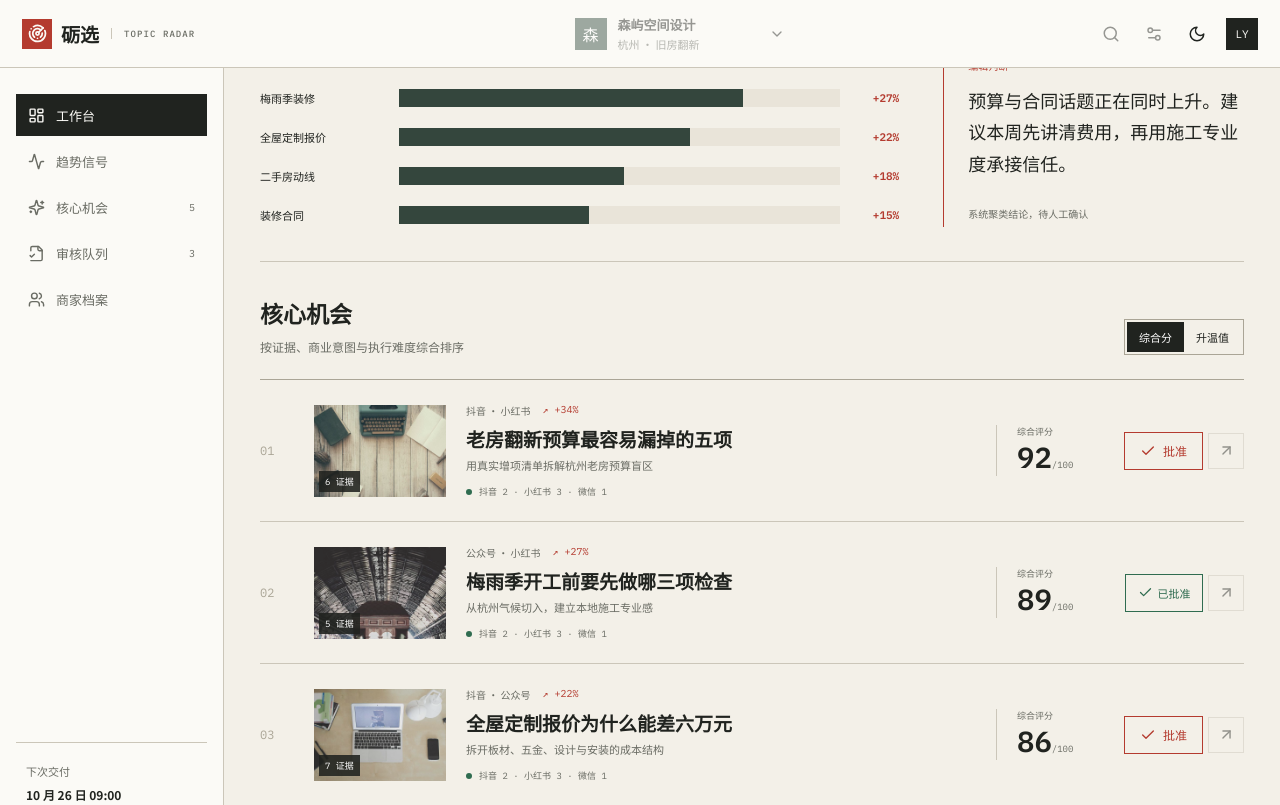
Test: RadarDashboard › disables unavailable commands and locks delivery until review is complete
(page scrolled)
Expected: the button named "搜索" is disabled, [1093,16,1129,52]
Click the button with aria-label "批准 老房翻新预算最容易漏掉的五项": (1164, 451) [1124,432,1203,470]
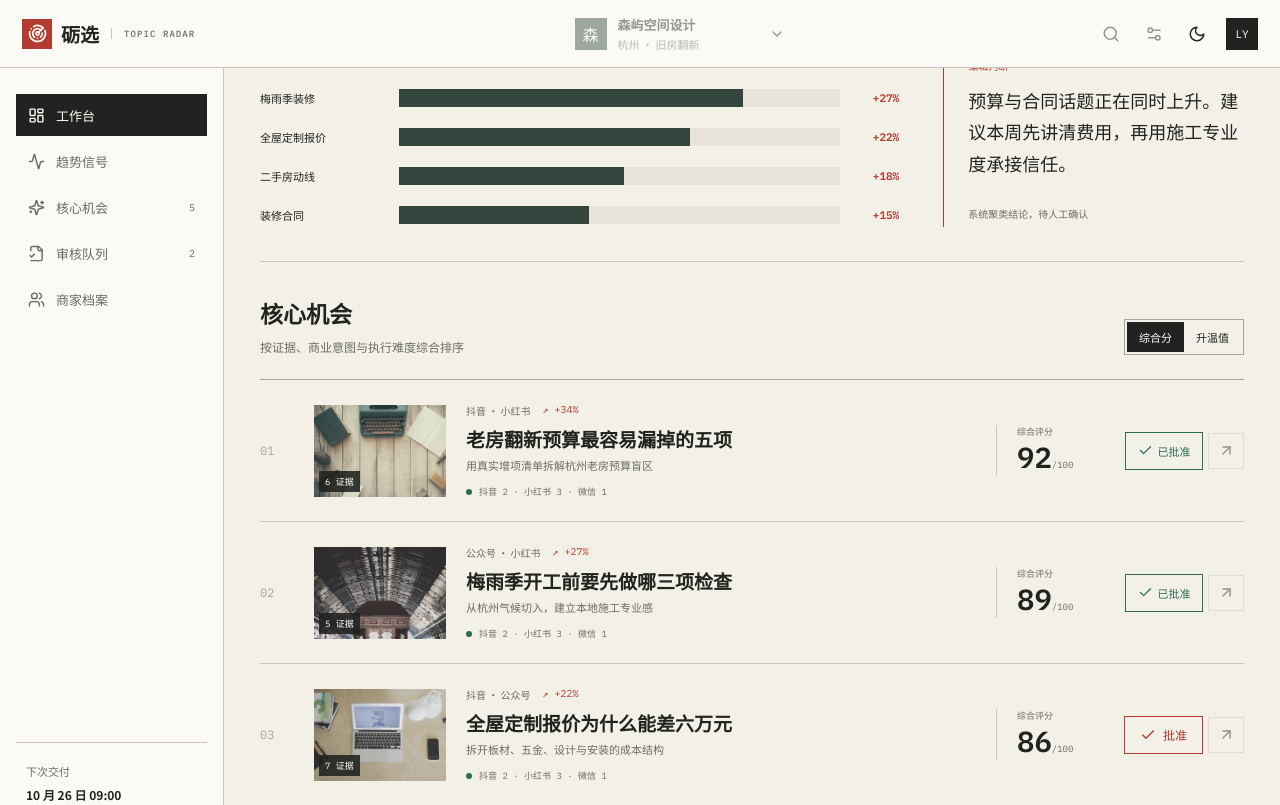
Click the button "批准": (1164, 735) [1124,716,1203,754]
(page scrolled)
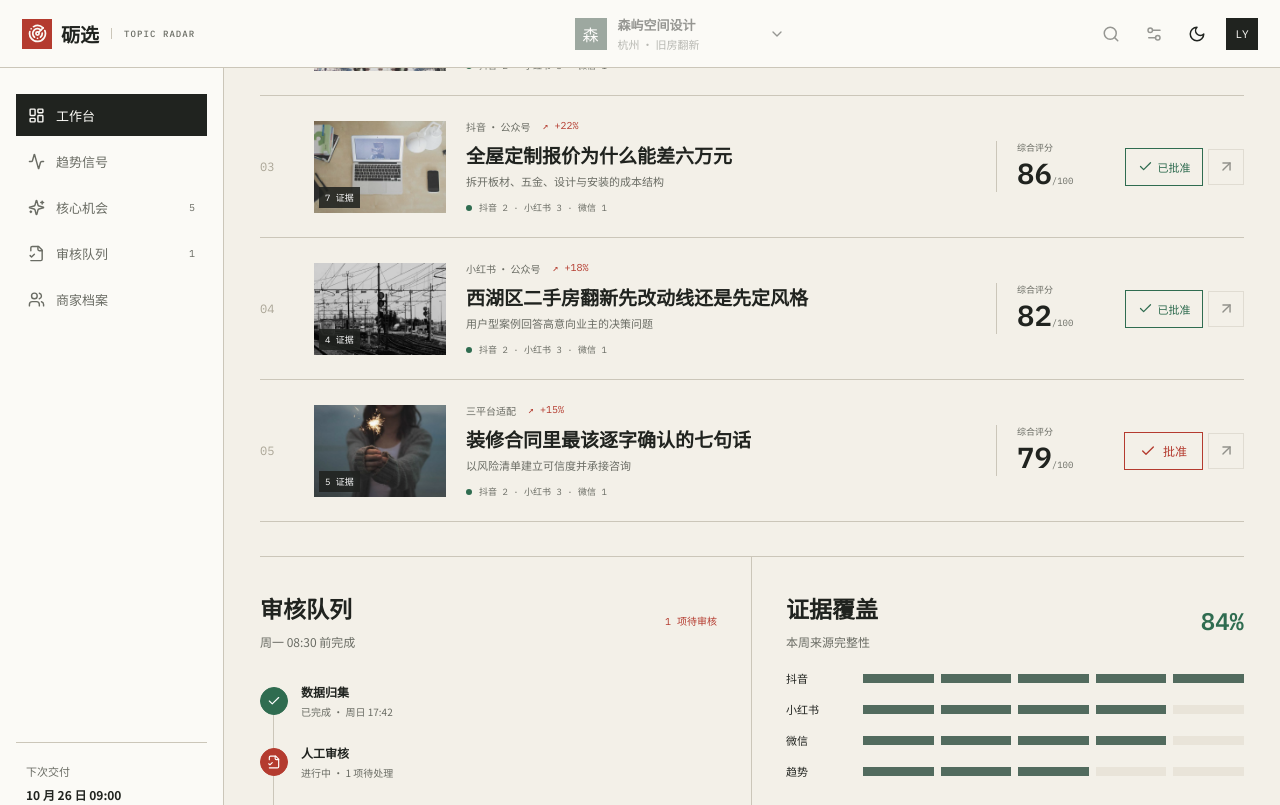
Click the button "批准": (1164, 451) [1124,432,1203,470]
(page scrolled)
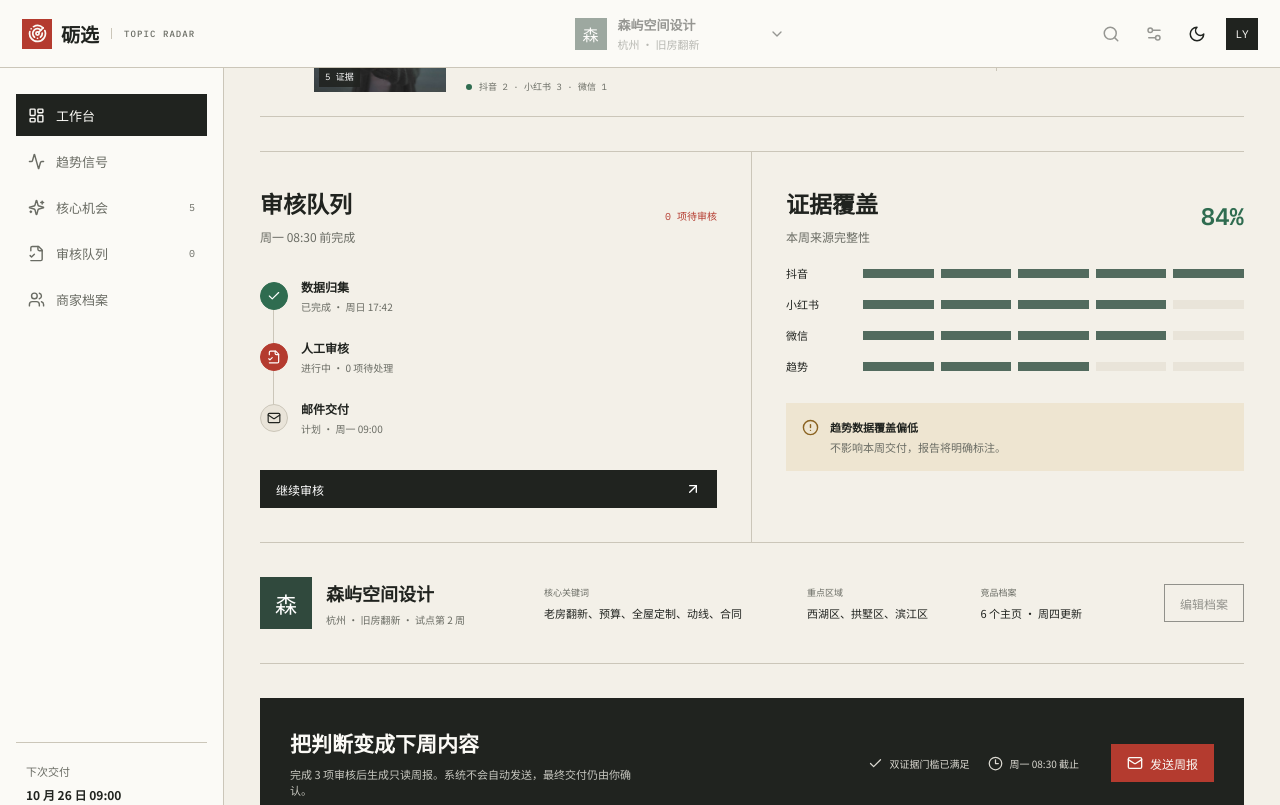
Expected: the button "发送周报" is enabled, [1111,744,1214,782]
